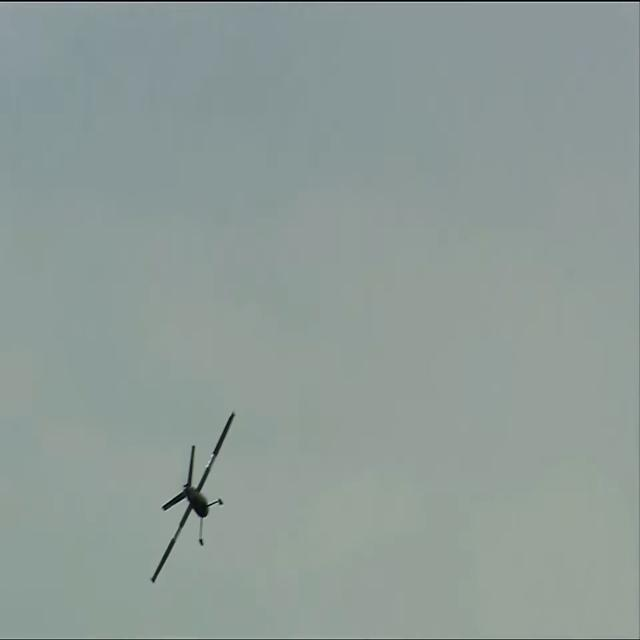iha: (182, 409, 205, 588)
